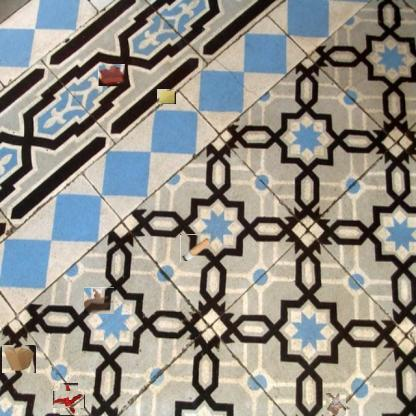dirty: (2, 345, 36, 373), (180, 235, 211, 262), (57, 387, 81, 412), (325, 394, 348, 416), (156, 88, 176, 104)
liquid: (84, 287, 114, 314), (100, 63, 124, 88)
